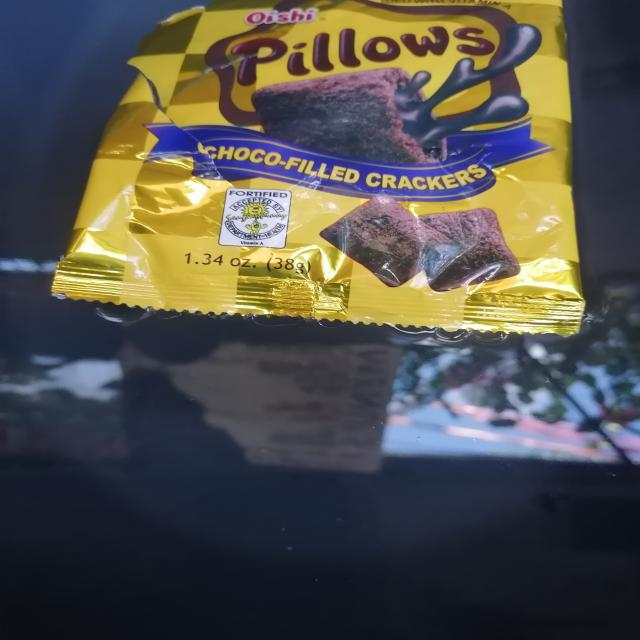Plastic Wrapper: (38, 0, 612, 355)
